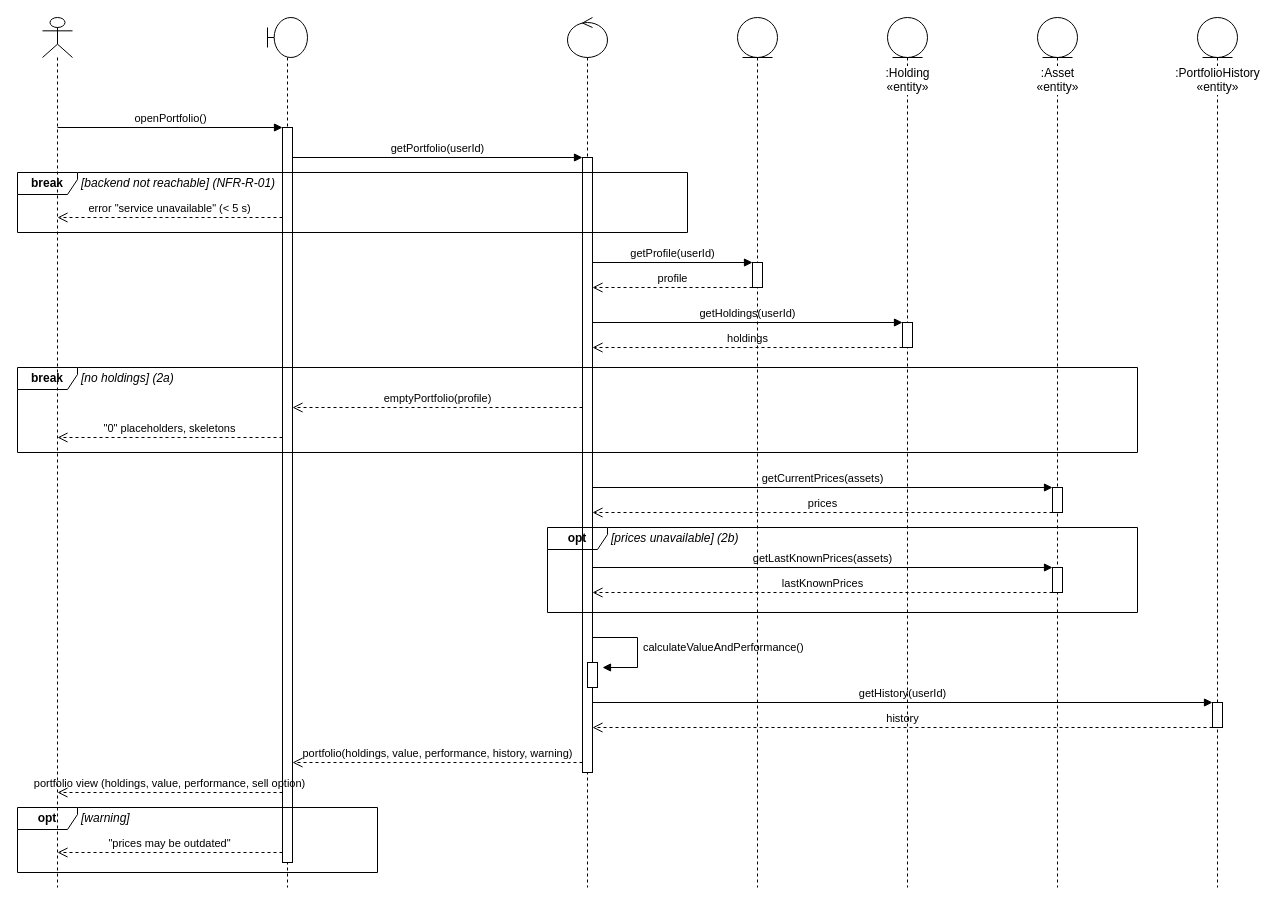
This 1277x905 diagram has some shape labels left out. The shapes that lost their labels are listed below. From the top down, each one's box as (x1, y1, x2, y2) in pixels, then its label:
(42, 16, 72, 888): User
(266, 16, 308, 888): :PortfolioPage «boundary»
(566, 16, 608, 888): :AnalyzePortfolio «control»
(736, 16, 778, 888): :Profile «entity»
